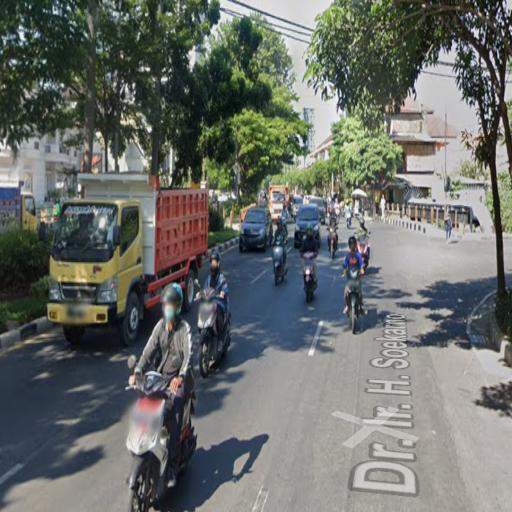Helmet: (161, 283, 183, 314), (210, 250, 220, 265), (348, 236, 356, 247), (306, 224, 313, 236), (277, 217, 283, 227), (360, 217, 364, 227)
Motor: (126, 372, 169, 511), (197, 284, 231, 377), (348, 268, 361, 333), (273, 236, 287, 285), (303, 253, 316, 302), (357, 234, 369, 270), (328, 226, 338, 259), (347, 209, 352, 229), (335, 205, 340, 223)
